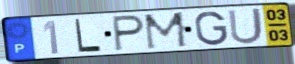1: (42, 19, 60, 56)
G: (193, 10, 230, 47)
L: (73, 18, 103, 54)
M: (142, 10, 190, 51)
P: (111, 14, 147, 53)
U: (226, 6, 265, 46)
